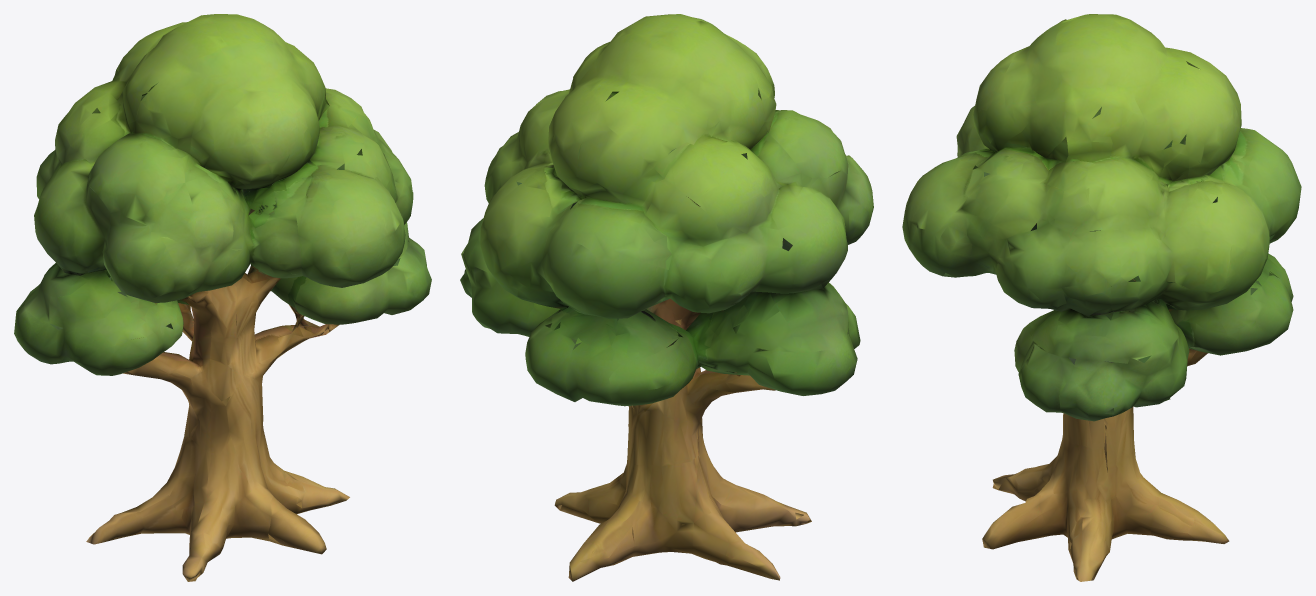
The model's file is tree-forest-meshy-lod5.glb.
The picture shows the model from 3 angles, left to right: view 1: azimuth 30°, elevation 25°; view 2: azimuth 150°, elevation 25°; view 3: azimuth 270°, elevation 25°; orthographic projection. The views are drawn at different scales.
Visible parts, largest first — view 1: Mesh_0; view 2: Mesh_0; view 3: Mesh_0.
Boxes of the visible parts, bbox=[...] form: Mesh_0: bbox=[14, 14, 431, 581]; Mesh_0: bbox=[460, 14, 873, 581]; Mesh_0: bbox=[902, 14, 1301, 581].
Bounding box in the file's own units: 9.37 × 11.68 × 8.37.
Materials: 1 (1 with a texture image).
